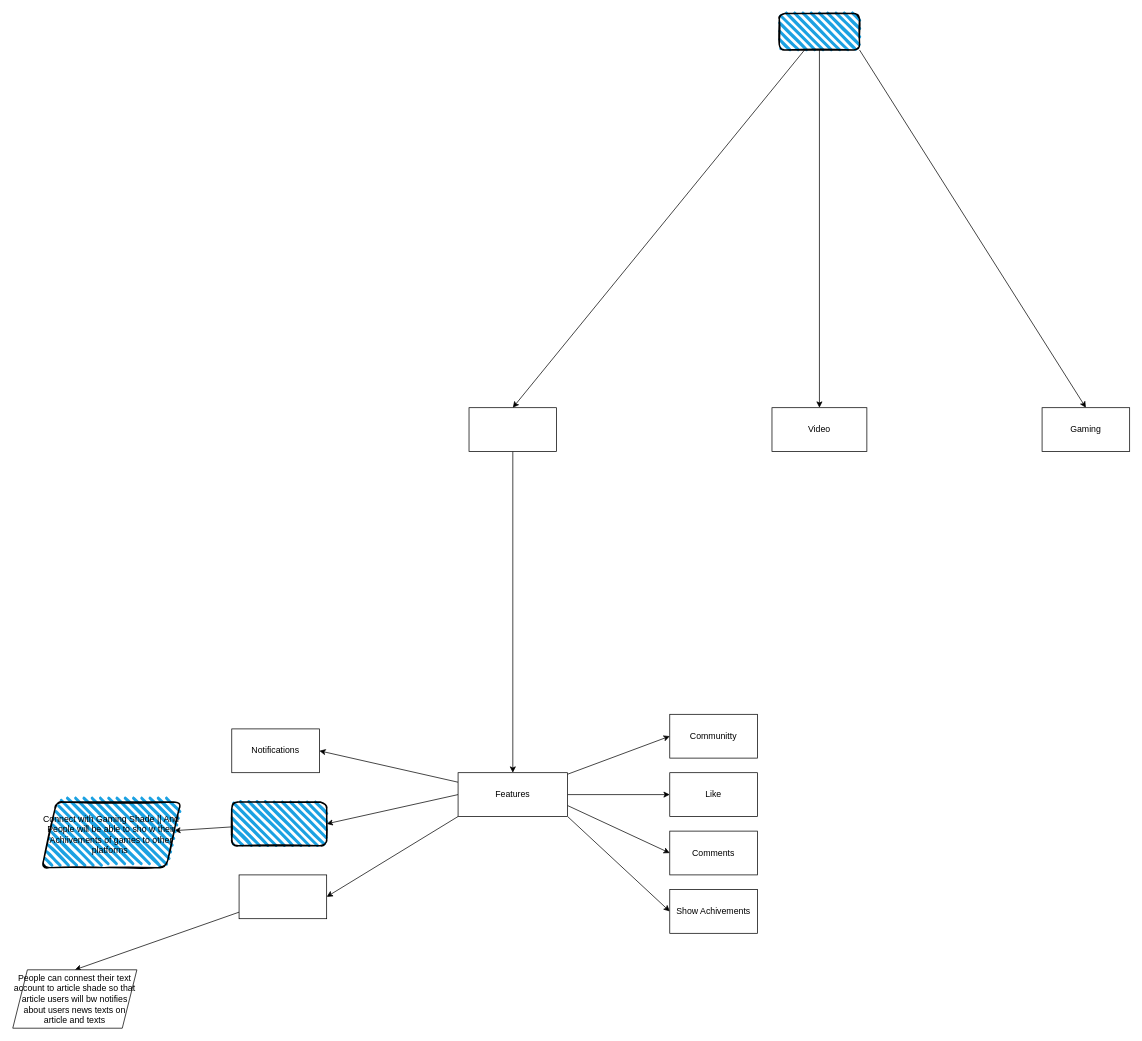
Image size: 1142x1041. Some labels were removed from this diagram. Here are the shapes that lost their labels. From the top down, the box of each, then its label:
(778, 12, 860, 50): Shade
(468, 407, 557, 452): Article Shade
(231, 801, 327, 846): Playing Cricket
(238, 874, 327, 919): Publish POST/Tweets
